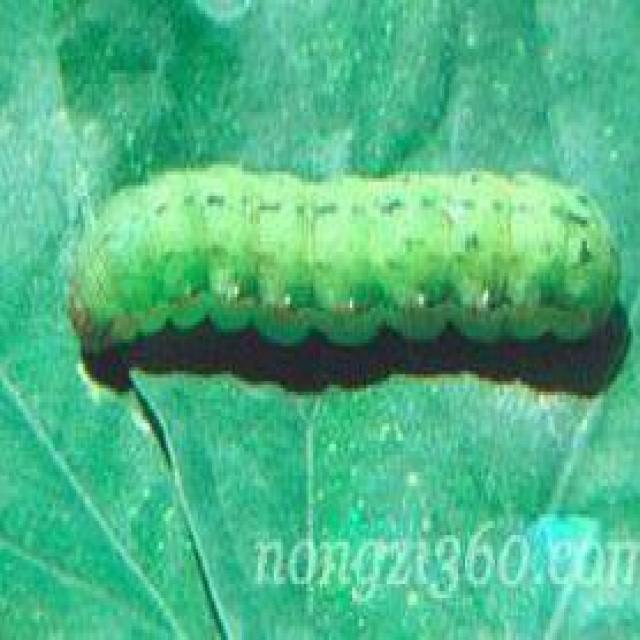armyworm: (62, 151, 623, 393)
